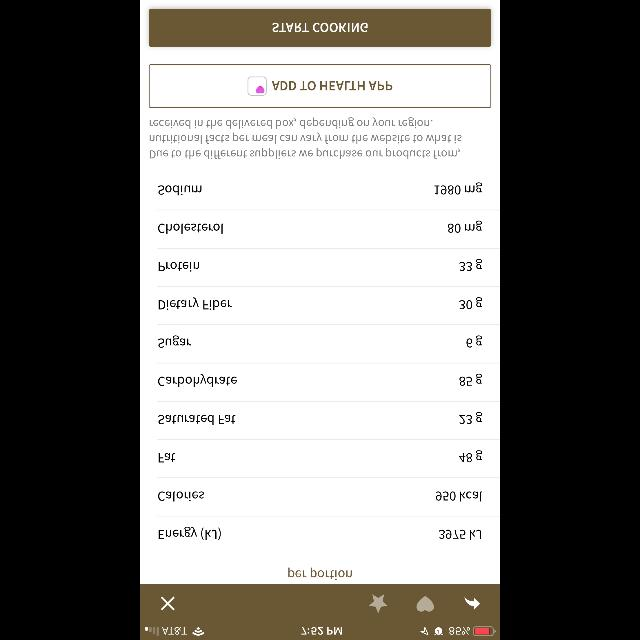icon: (368, 594, 388, 612), (416, 595, 434, 611), (464, 596, 480, 610), (161, 596, 175, 610)
text: (150, 117, 462, 159), (158, 374, 238, 386), (159, 526, 221, 540), (160, 298, 232, 310), (158, 415, 236, 425), (288, 568, 352, 580), (158, 224, 224, 234), (434, 182, 482, 194), (436, 491, 482, 502), (158, 491, 204, 501), (158, 185, 202, 195), (439, 529, 481, 539), (158, 336, 192, 348), (448, 221, 482, 233), (159, 262, 199, 272), (460, 259, 482, 271), (460, 297, 482, 309), (460, 374, 482, 386), (460, 412, 482, 424), (460, 450, 482, 462), (466, 335, 482, 347), (158, 453, 176, 462)
textbutton: (149, 64, 491, 108), (149, 9, 491, 47)
uppertaskbar: (140, 626, 500, 640)
